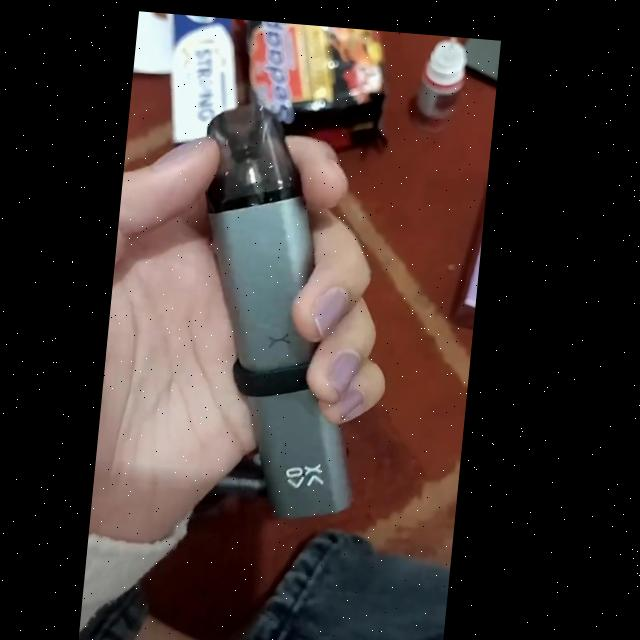vape: (182, 100, 394, 516)
